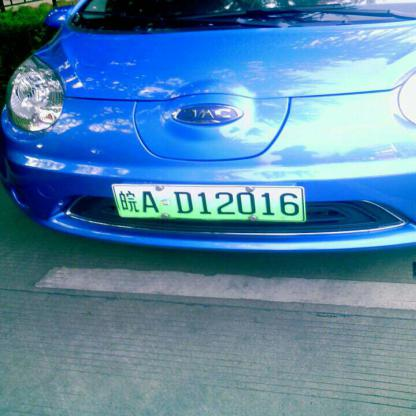lp: (113, 184, 304, 220)
